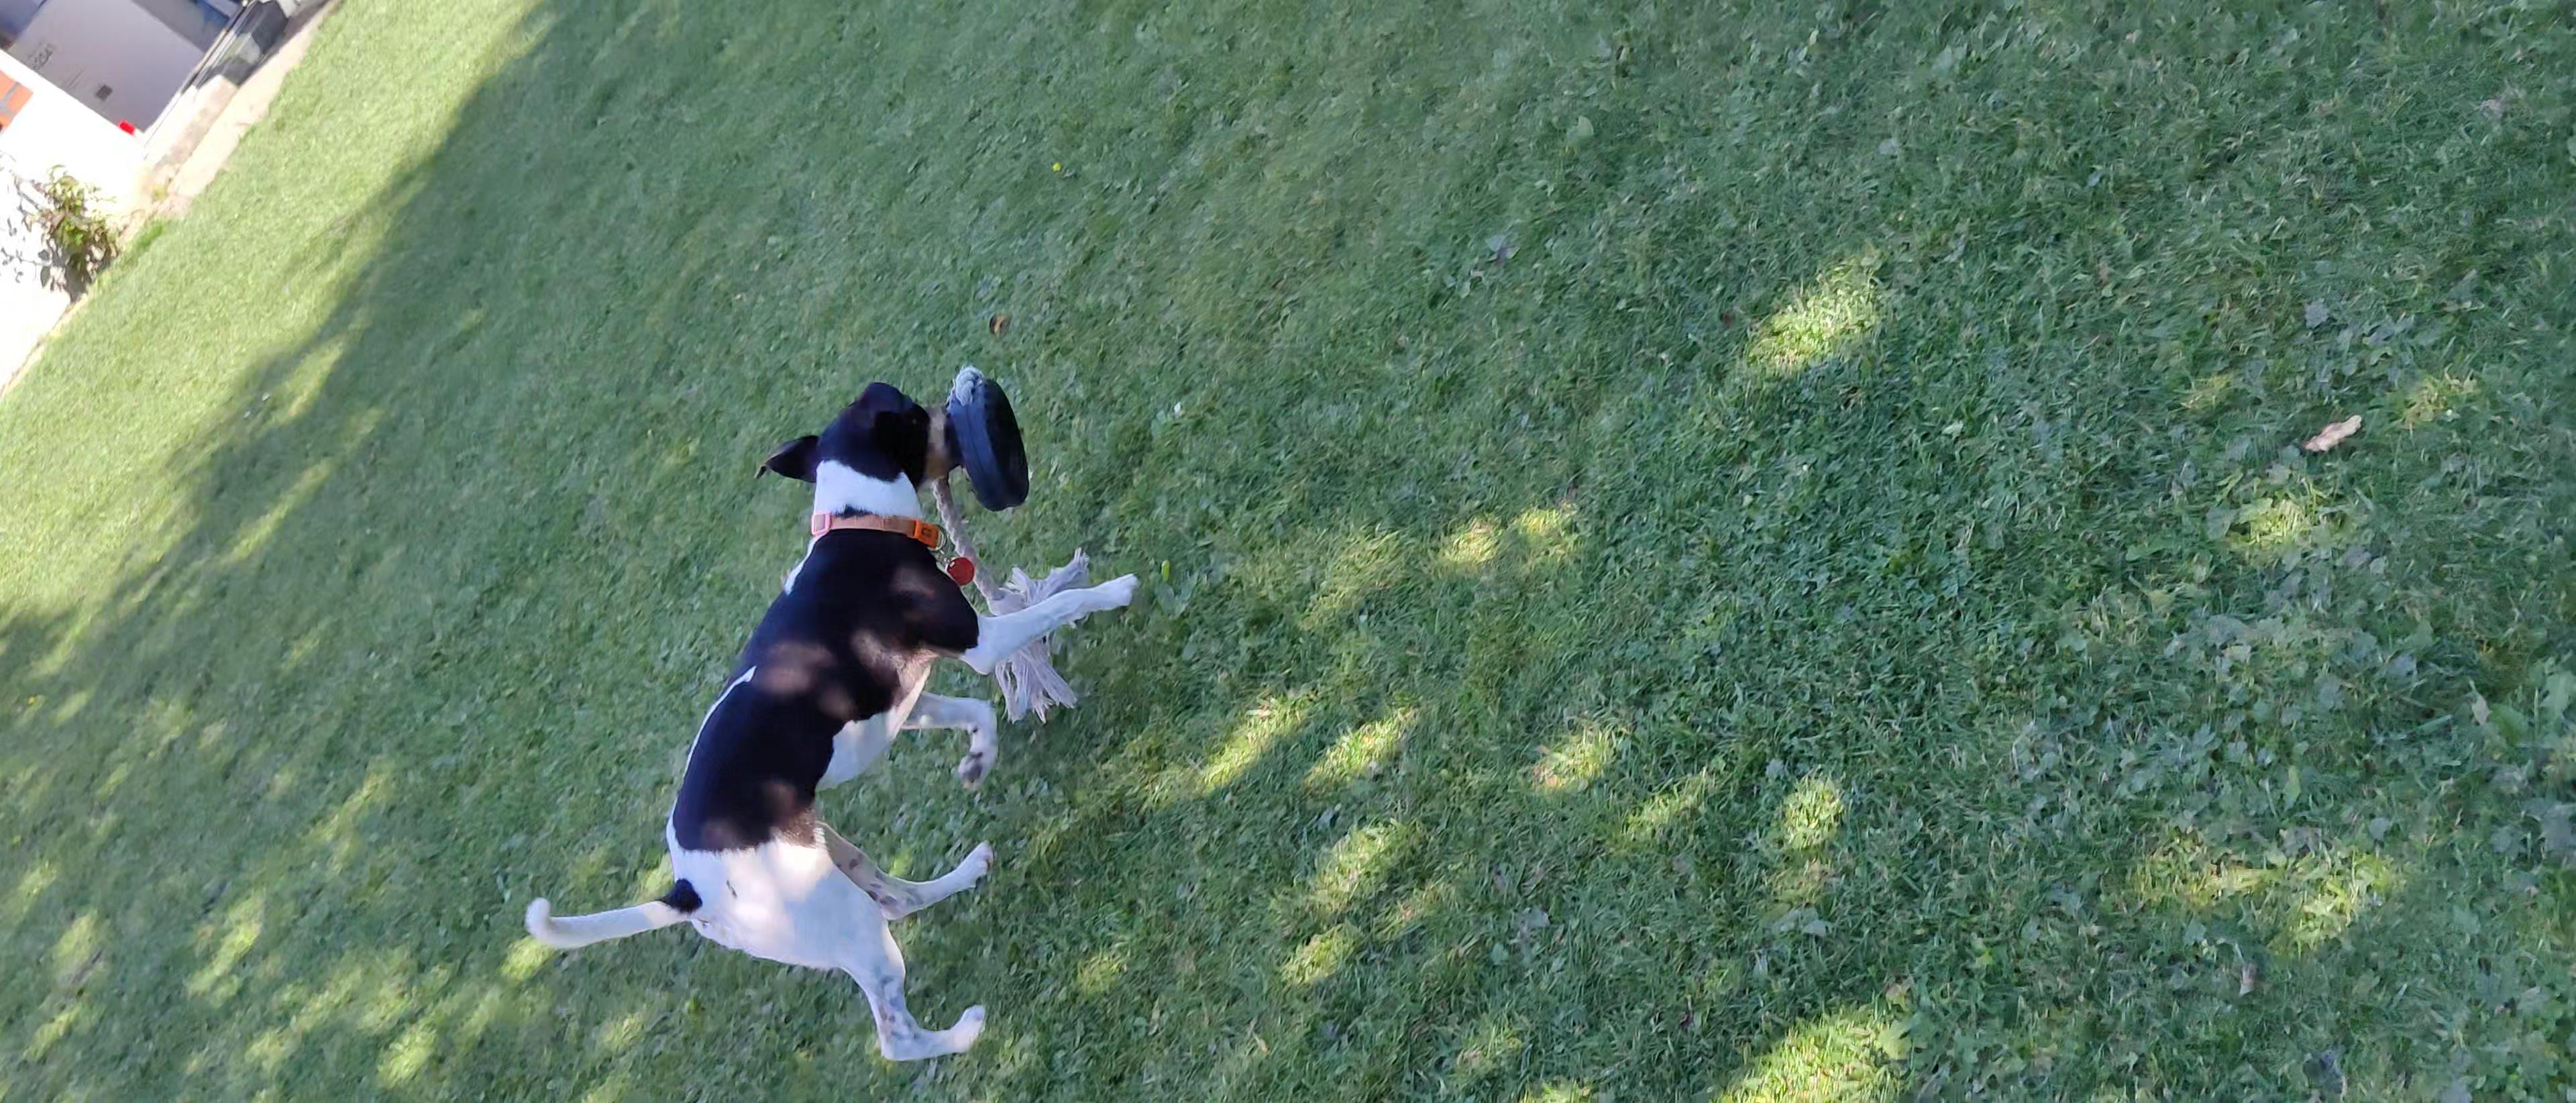Dog: (526, 378, 1145, 1064)
